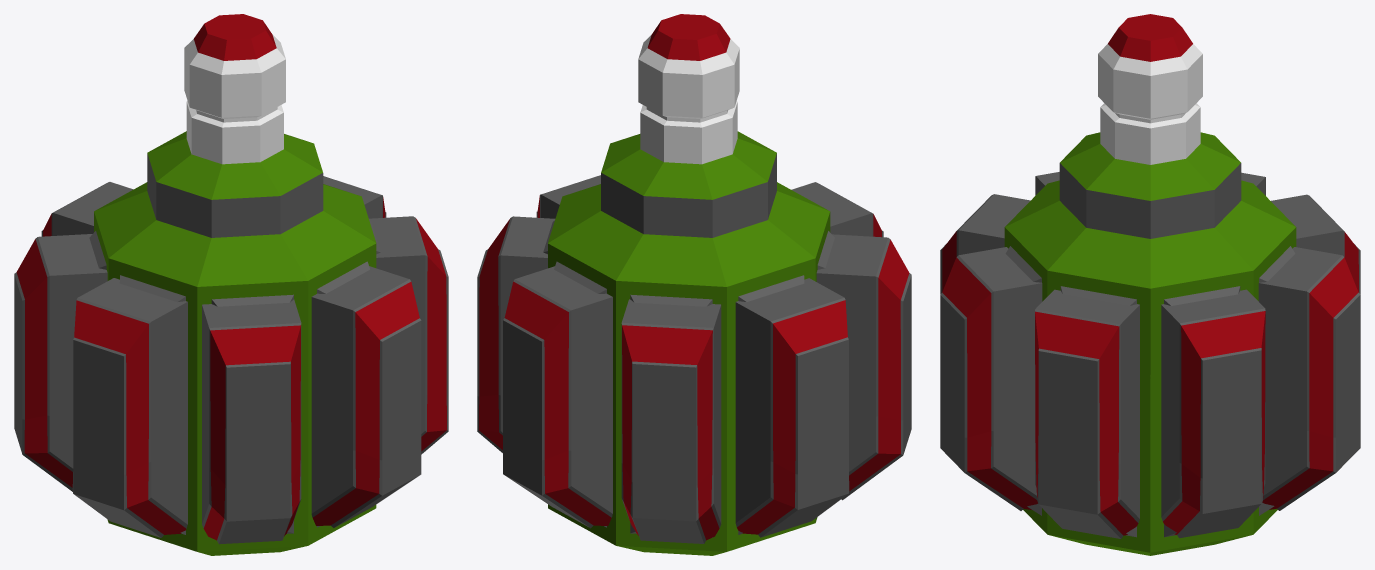
File: Г10 Кластерная граната.fbx
3 views of the same model, side by side, from view 1: azimuth 30°, elevation 25°; view 2: azimuth 150°, elevation 25°; view 3: azimuth 270°, elevation 25° (orthographic).
Parts seen in each view (by area): view 1: Cylinder, Cube.006, Cube.002, Cube.004, Cube.001, Cube, Cube.003, Cube.007; view 2: Cylinder, Cube.001, Cube.005, Cube.003, Cube.006, Cube.007, Cube.004, Cube; view 3: Cylinder, Cube, Cube.007, Cube.005, Cube.002, Cube.004, Cube.003.
Part boxes in pixels (left/top/right/bottom): Cylinder: left=89, top=14, right=380, bottom=555; Cube.006: left=72, top=278, right=187, bottom=537; Cube.002: left=311, top=266, right=421, bottom=527; Cube.004: left=202, top=299, right=301, bottom=544; Cube.001: left=14, top=234, right=107, bottom=491; Cube: left=369, top=216, right=448, bottom=454; Cube.003: left=41, top=182, right=133, bottom=236; Cube.007: left=323, top=176, right=386, bottom=218; Cylinder: left=543, top=14, right=834, bottom=555; Cube.001: left=735, top=278, right=849, bottom=537; Cube.005: left=503, top=266, right=612, bottom=528; Cube.003: left=621, top=299, right=721, bottom=543; Cube.006: left=816, top=234, right=911, bottom=500; Cube.007: left=477, top=216, right=555, bottom=452; Cube.004: left=791, top=182, right=883, bottom=237; Cube: left=536, top=175, right=600, bottom=218; Cylinder: left=1004, top=14, right=1296, bottom=555; Cube: left=1035, top=289, right=1139, bottom=538; Cube.007: left=1161, top=289, right=1265, bottom=538; Cube.005: left=1258, top=247, right=1360, bottom=510; Cube.002: left=940, top=247, right=1042, bottom=510; Cube.004: left=940, top=194, right=1030, bottom=293; Cube.003: left=1271, top=194, right=1360, bottom=293.
Size of the model in its own units: 290 by 371 by 289.
